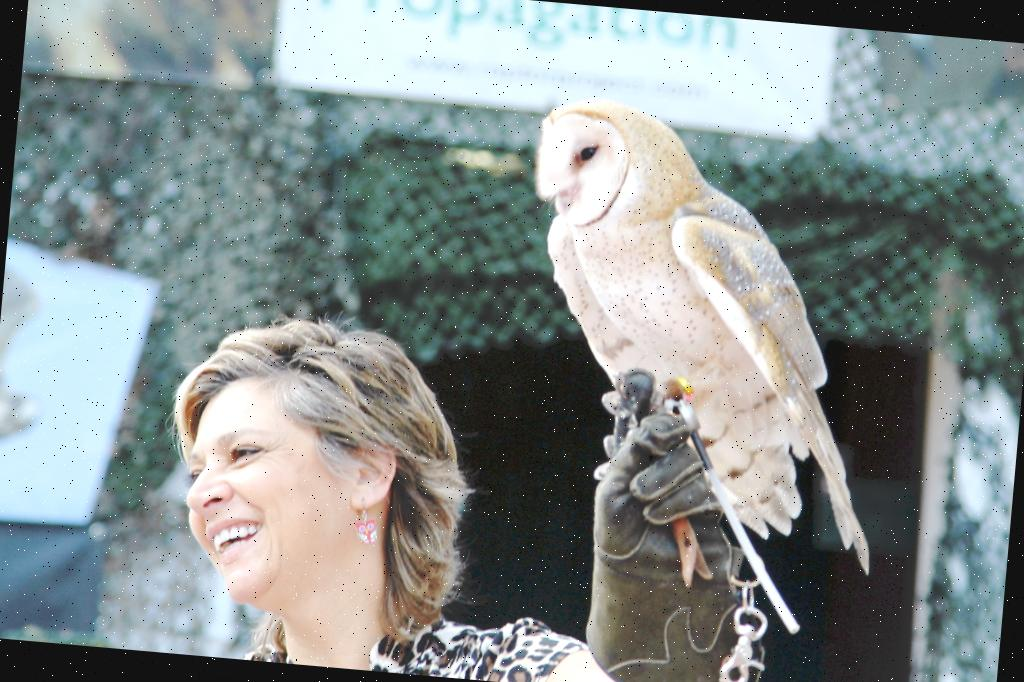Owl: (509, 94, 919, 588)
